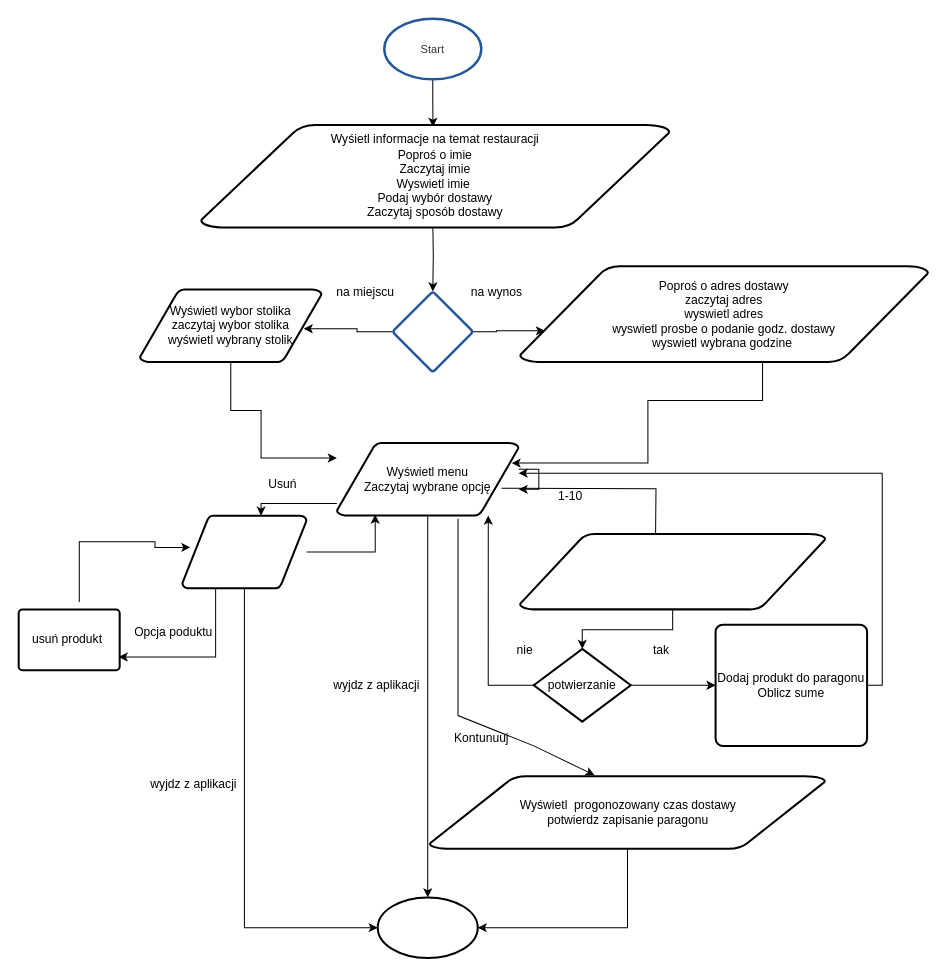
Image size: 946x977. Some labels were removed from this diagram. Here are the shapes that lost their labels. From the top down, the centre of each, then its label:
point (432, 331): Dostawa
point (244, 551): Wyświetl paragon podaj opcje zaczytaj opcje
point (672, 571): Zapyaj o ilość porcji zaczytaj ilość zapyaj o potwierdzenie zaczytaj odpowiedz
point (427, 927): Stop
